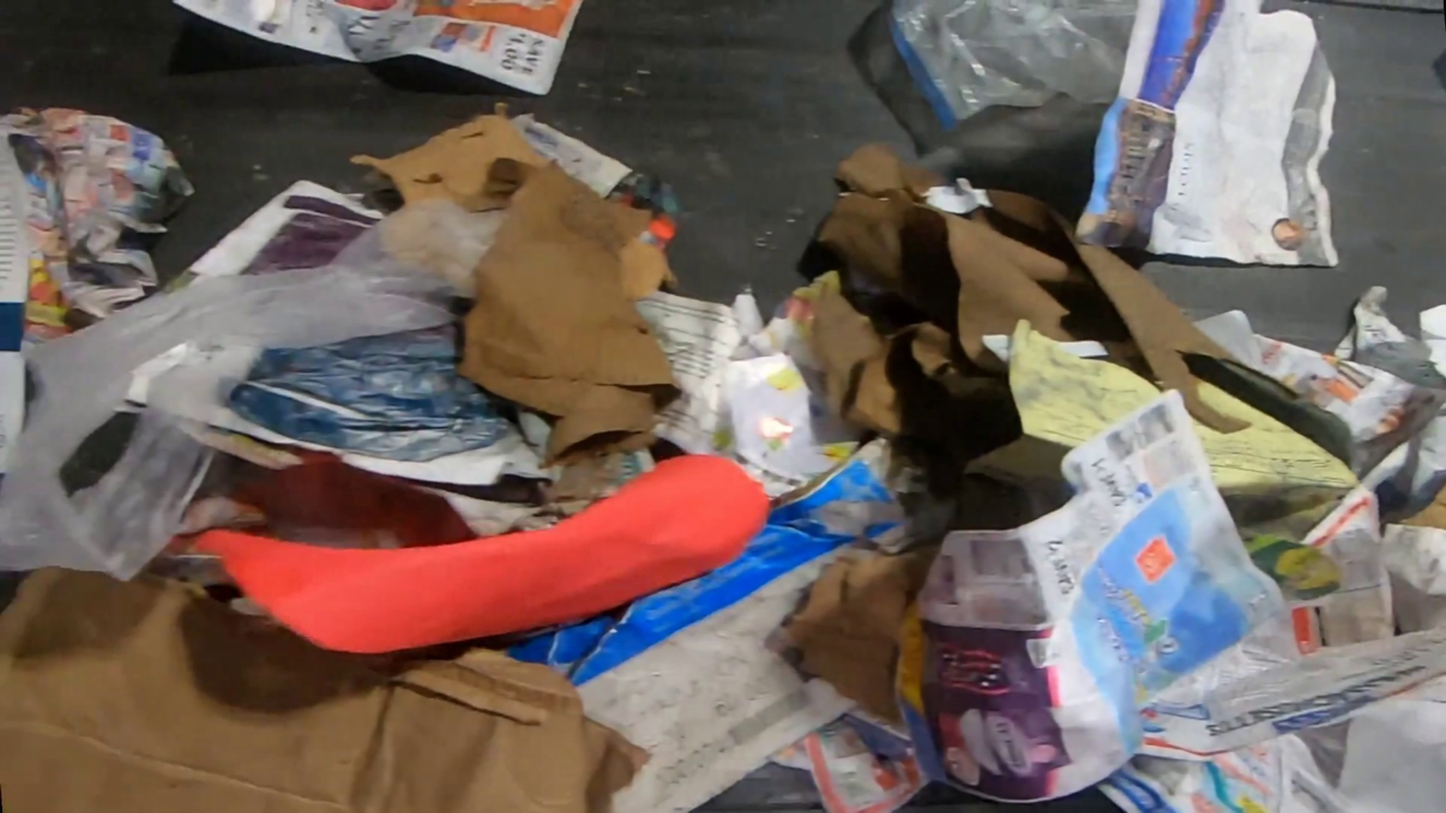cardboard: (509, 437, 960, 813), (0, 568, 658, 813), (810, 139, 1257, 461), (192, 455, 771, 653), (775, 548, 940, 730), (347, 100, 551, 200), (622, 235, 682, 300)
plastic: (0, 194, 505, 585), (880, 0, 1140, 131)
